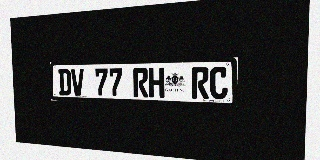7: (108, 68, 123, 97), (94, 68, 108, 96)
C: (210, 67, 228, 99)
D: (58, 69, 71, 96)
H: (149, 68, 164, 98)
R: (192, 67, 209, 99), (133, 68, 148, 97)
V: (71, 69, 84, 96)
